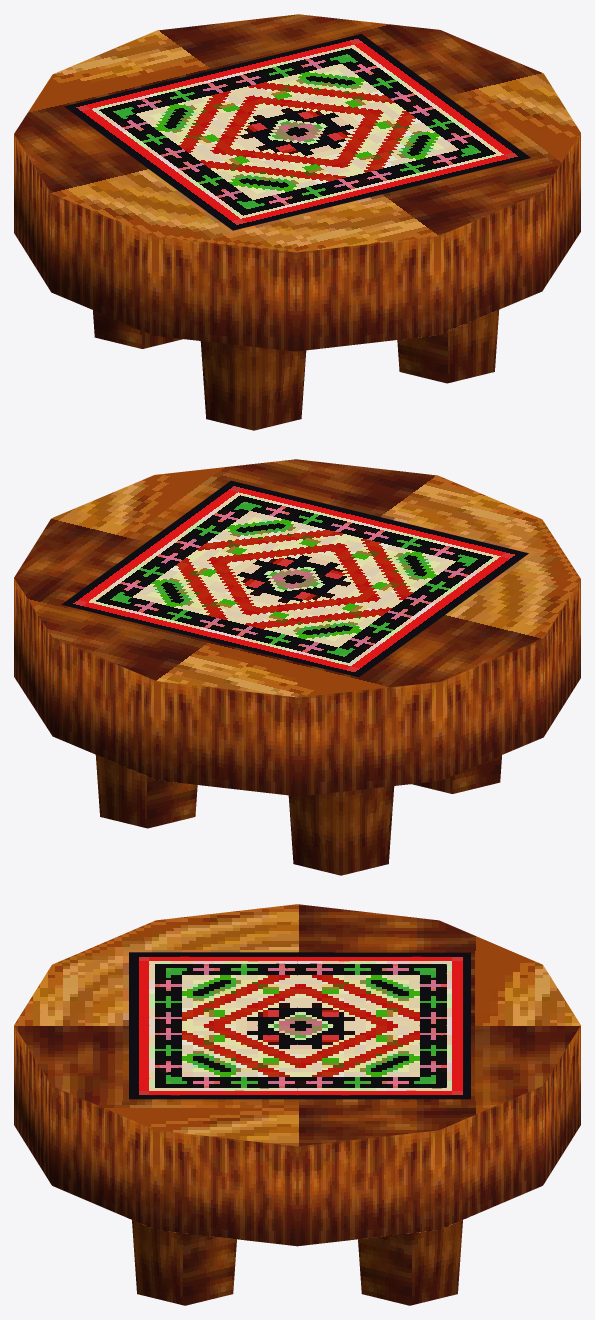
Rendered from rmk_log_tableL.dae.
3 renders of one model, top to bottom at view 1: azimuth 30°, elevation 25°; view 2: azimuth 150°, elevation 25°; view 3: azimuth 270°, elevation 25°, orthographic.
Parts seen in each view (by area): view 1: rmk_log_tableL; view 2: rmk_log_tableL; view 3: rmk_log_tableL.
Part boxes in pixels (x1,y1,x2,y2): rmk_log_tableL: (14,14,580,430); rmk_log_tableL: (14,459,580,875); rmk_log_tableL: (14,904,580,1305).
Bounding box in the file's own units: 59.54 × 24.15 × 58.89.
2 materials, 2 textured.
